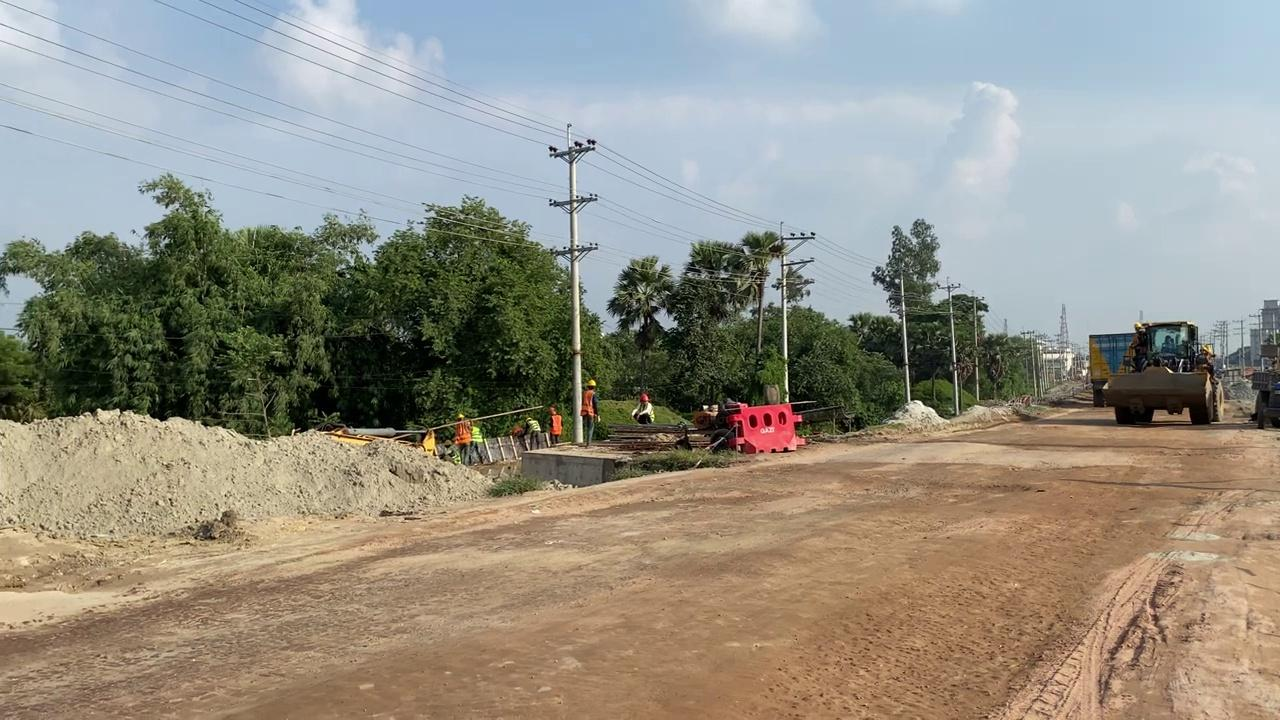Construction-barrier: (725, 401, 802, 454)
Muddy road: (2, 510, 1278, 718)
Pole: (546, 124, 599, 444), (568, 158, 584, 444), (898, 267, 911, 404)
Traffic-sign: (870, 216, 941, 405), (605, 254, 675, 400)
Tree: (1101, 319, 1222, 425), (1086, 331, 1137, 408)
